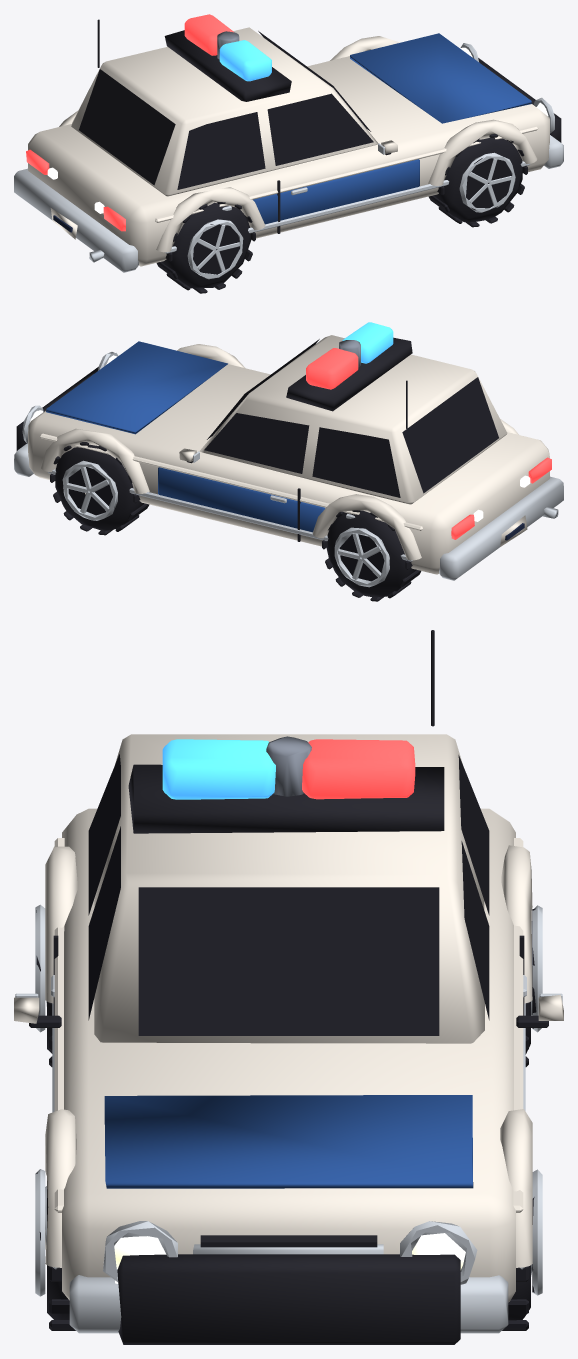
File: police_car.glb
3 renders of one model, top to bottom at view 1: azimuth 30°, elevation 25°; view 2: azimuth 150°, elevation 25°; view 3: azimuth 270°, elevation 25°, orthographic. The views are drawn at different scales.
Parts seen in each view (by area): view 1: police_car.010, beacon.030; view 2: police_car.010, beacon.030; view 3: police_car.010, beacon.030.
Boxes of the visible parts, x1,y1,x2,y2 form: police_car.010: (14, 19, 563, 293); beacon.030: (184, 14, 271, 81); police_car.010: (14, 335, 563, 601); beacon.030: (306, 322, 393, 389); police_car.010: (14, 630, 563, 1344); beacon.030: (162, 736, 415, 799).
Bounding box in the file's own units: 4.58 × 1.94 × 2.37.
Materials: 1 (1 with a texture image).
